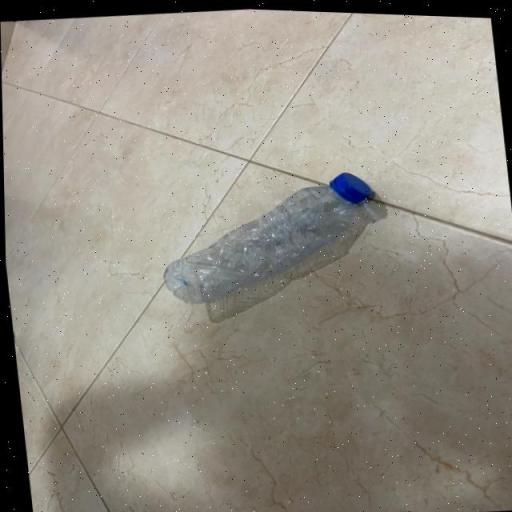plastic: (149, 163, 382, 318)
